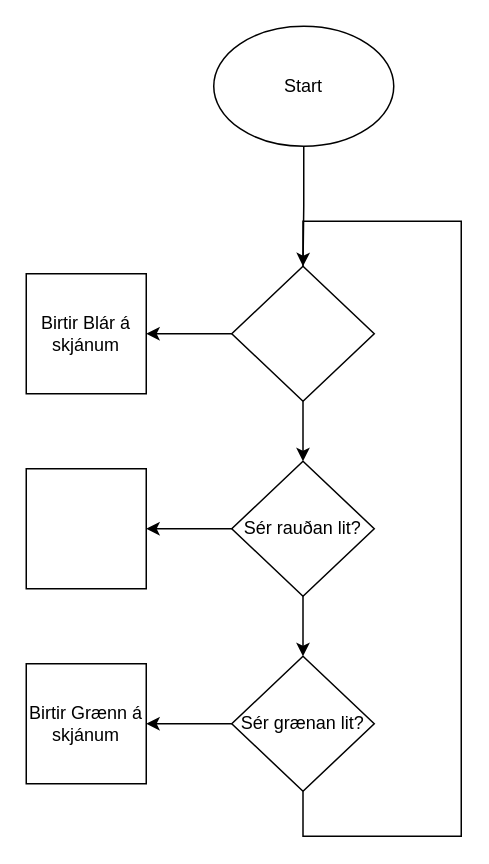
Image size: 489x864. Some labels were removed from this diagram. Each missing label, with the box of its shape:
Birtir Rauður á skjánum: (25, 467, 146, 589)
Sér bláan lit?: (230, 265, 374, 401)
